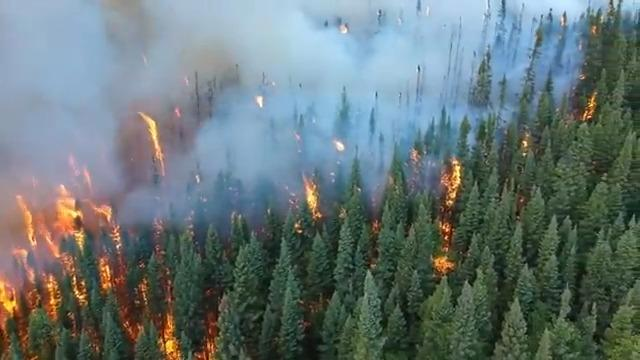fire: (3, 180, 124, 336), (434, 159, 467, 278), (140, 111, 167, 177), (160, 296, 183, 360), (300, 174, 324, 223), (201, 305, 218, 360), (583, 88, 604, 123)
smoke: (0, 0, 622, 188)
